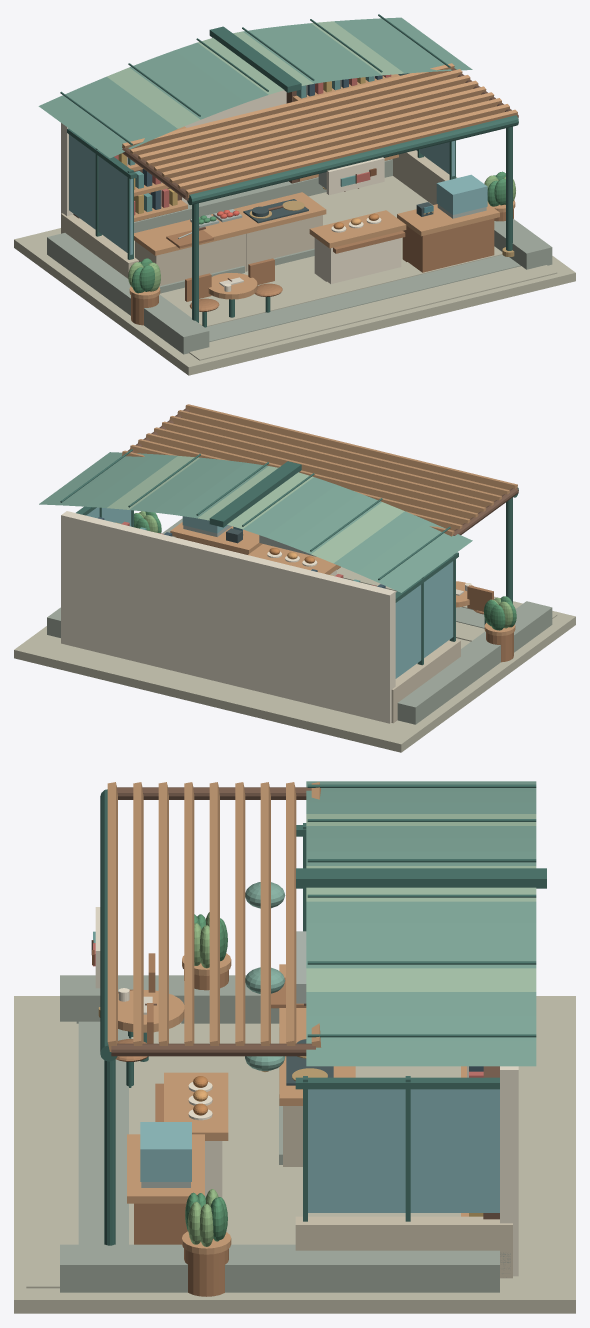
The model's file is sz_park_bookbar_cafe.glb.
3 views of the same model, one above another, from view 1: azimuth 30°, elevation 25°; view 2: azimuth 150°, elevation 25°; view 3: azimuth 270°, elevation 25° (orthographic). The views are drawn at different scales.
Visible parts, largest first — view 1: park_bookbar_foundation, promenade_paver_-3.25, promenade_paver_-2.55, side_planted_edge_-4.25, reading_room_side_glazing_left, pergola_front_beam, payment_counter_base, promenade_paver_-1.85, prep_workbench_base, pergola_sunshade_slat_7, pergola_sunshade_slat_6, pergola_sunshade_slat_5 (+46 smaller); view 2: reading_room_back_wall, park_bookbar_foundation, side_planted_edge_-4.25, reading_room_side_glazing_left, pergola_sunshade_slat_1, pergola_sunshade_slat_0, pergola_sunshade_slat_3, pergola_sunshade_slat_2, pergola_sunshade_slat_4, pergola_sunshade_slat_5, leaf_roof_-1_7, leaf_roof_-1_5 (+26 smaller); view 3: park_bookbar_foundation, reading_room_side_glazing_right, side_planted_edge_4.25, promenade_paver_-3.25, promenade_paver_-2.55, reading_room_side_plinth_right, leaf_roof_1_7, leaf_roof_1_5, leaf_roof_1_4, leaf_roof_1_6, leaf_roof_1_2, leaf_roof_1_3 (+45 smaller).
Boxes of the visible parts, x1,y1,x2,y2 form: park_bookbar_foundation: [14, 176, 575, 375]; promenade_paver_-3.25: [189, 265, 557, 360]; promenade_paver_-2.55: [205, 255, 520, 341]; side_planted_edge_-4.25: [47, 233, 209, 354]; reading_room_side_glazing_left: [69, 134, 132, 254]; pergola_front_beam: [187, 115, 518, 204]; payment_counter_base: [402, 218, 494, 272]; promenade_paver_-1.85: [188, 246, 502, 326]; prep_workbench_base: [135, 234, 245, 286]; pergola_sunshade_slat_7: [130, 69, 462, 154]; pergola_sunshade_slat_6: [138, 75, 470, 160]; pergola_sunshade_slat_5: [146, 80, 478, 166]; reading_room_back_wall: [61, 511, 395, 723]; park_bookbar_foundation: [14, 596, 575, 752]; side_planted_edge_-4.25: [397, 601, 552, 724]; reading_room_side_glazing_left: [395, 561, 453, 678]; pergola_sunshade_slat_1: [177, 410, 509, 495]; pergola_sunshade_slat_0: [185, 404, 517, 490]; pergola_sunshade_slat_3: [161, 421, 494, 507]; pergola_sunshade_slat_2: [169, 416, 501, 501]; pergola_sunshade_slat_4: [154, 427, 486, 513]; pergola_sunshade_slat_5: [146, 433, 478, 518]; leaf_roof_-1_7: [379, 534, 472, 592]; leaf_roof_-1_5: [333, 511, 427, 572]; park_bookbar_foundation: [14, 996, 575, 1313]; reading_room_side_glazing_right: [308, 1089, 499, 1212]; side_planted_edge_4.25: [60, 1244, 499, 1292]; promenade_paver_-3.25: [26, 1006, 76, 1288]; promenade_paver_-2.55: [78, 1021, 128, 1244]; reading_room_side_plinth_right: [295, 1216, 512, 1278]; leaf_roof_1_7: [306, 1041, 536, 1066]; leaf_roof_1_5: [306, 992, 536, 1016]; leaf_roof_1_4: [306, 968, 536, 991]; leaf_roof_1_6: [306, 1016, 536, 1041]; leaf_roof_1_2: [306, 923, 536, 945]; leaf_roof_1_3: [306, 945, 536, 968].
Size of the model in its own units: 9.6 by 4.24 by 7.5.
